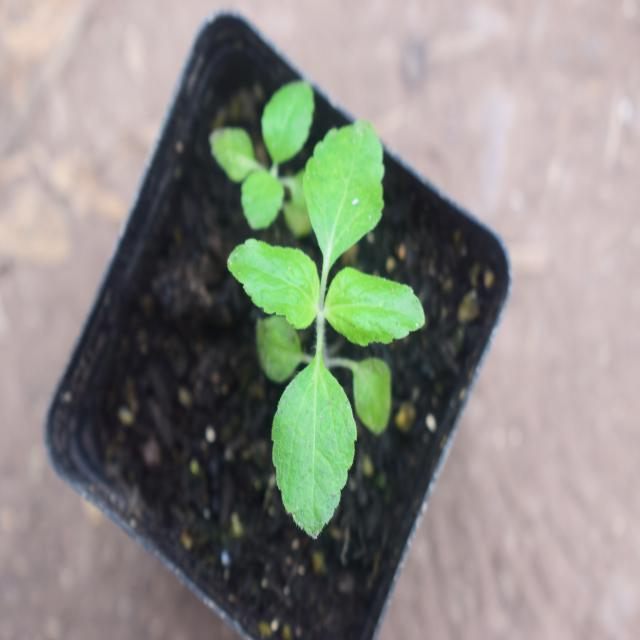billygoat_weed: (237, 118, 416, 537)
